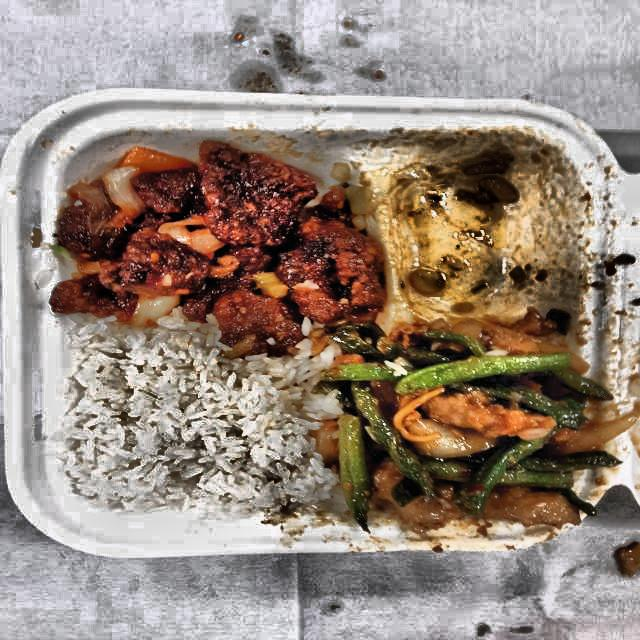Food: (48, 133, 380, 349), (326, 334, 614, 532), (63, 334, 319, 516)
